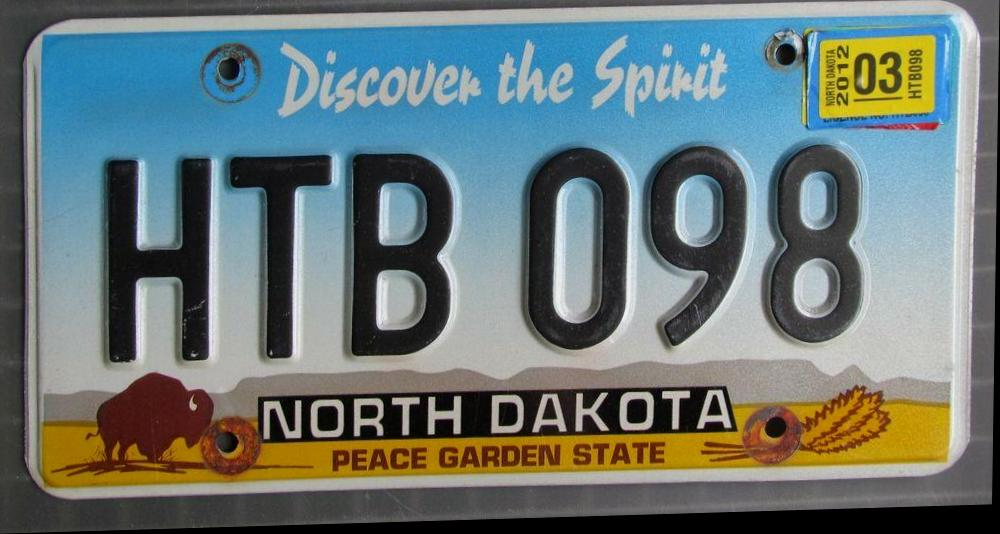License_Plate: (21, 0, 964, 504)
